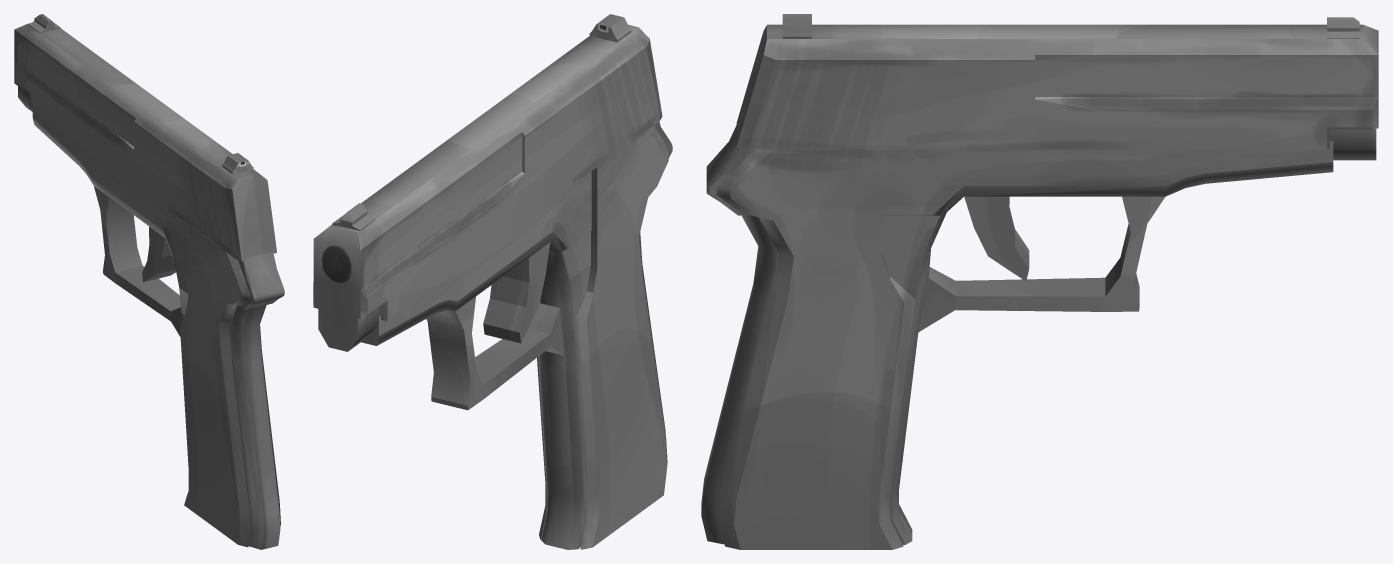
The picture shows the model from 3 angles, left to right: view 1: azimuth 30°, elevation 25°; view 2: azimuth 150°, elevation 25°; view 3: azimuth 270°, elevation 25°; orthographic projection. The views are drawn at different scales.
Parts seen in each view (by area): view 1: Box001; view 2: Box001; view 3: Box001.
Part boxes in pixels (x1=…): Box001: x1=14, y1=14, x2=284, y2=549; Box001: x1=313, y1=14, x2=672, y2=549; Box001: x1=701, y1=14, x2=1378, y2=549.
Size of the model in its own units: 0.206 by 1.8 by 2.13.
